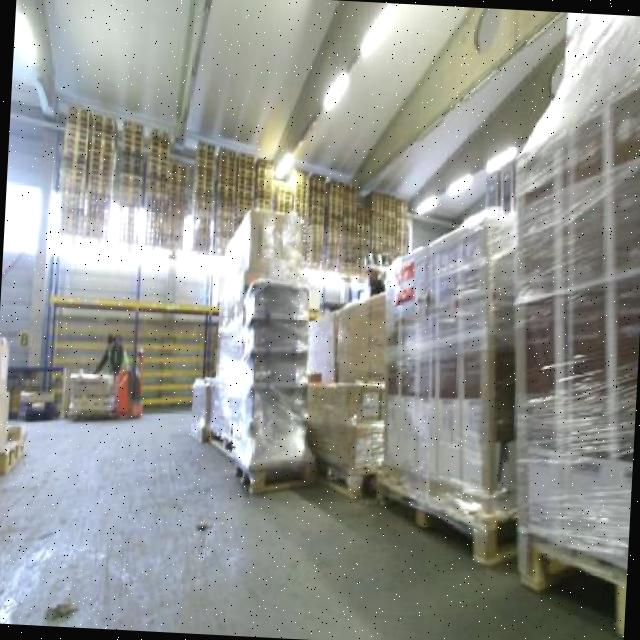pallet: (354, 464, 519, 569)
